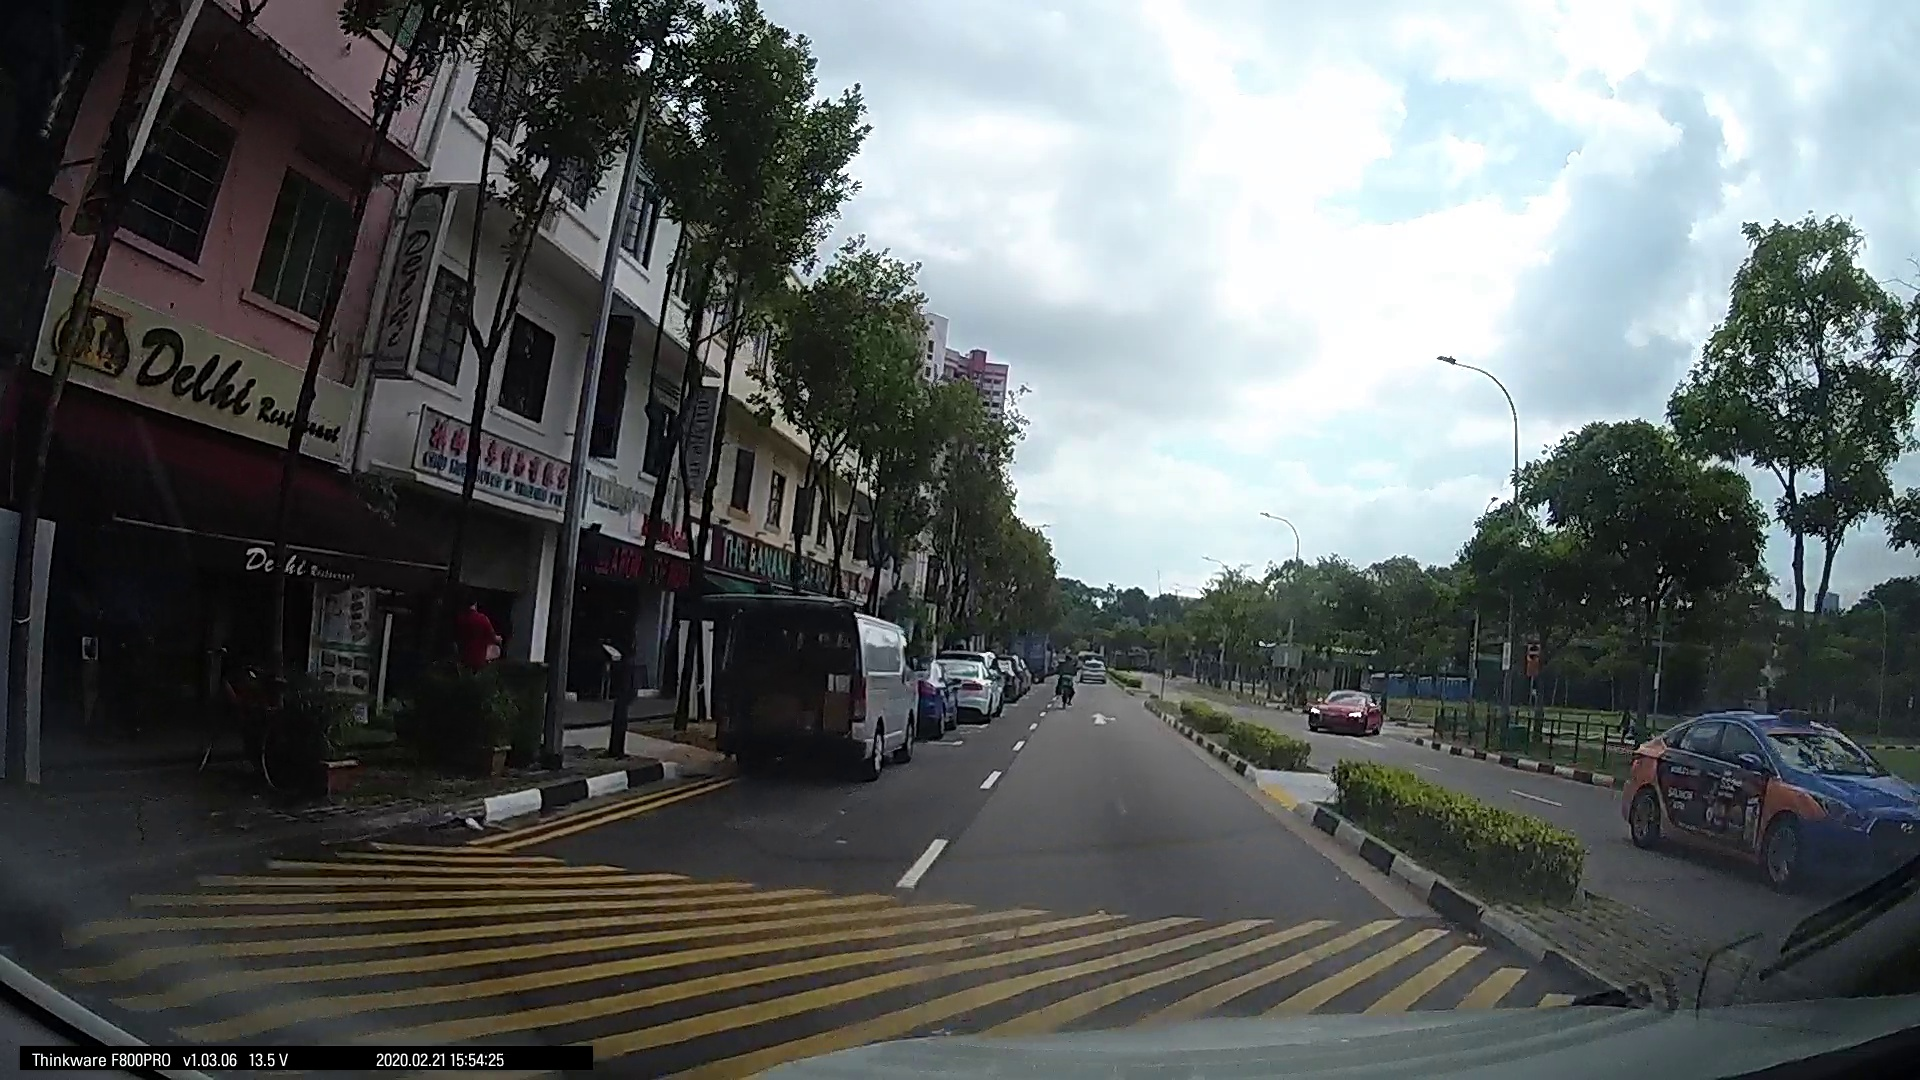Light Vehicle: (1611, 702, 1909, 895), (707, 593, 916, 778), (924, 647, 1002, 723), (1304, 679, 1385, 738)
